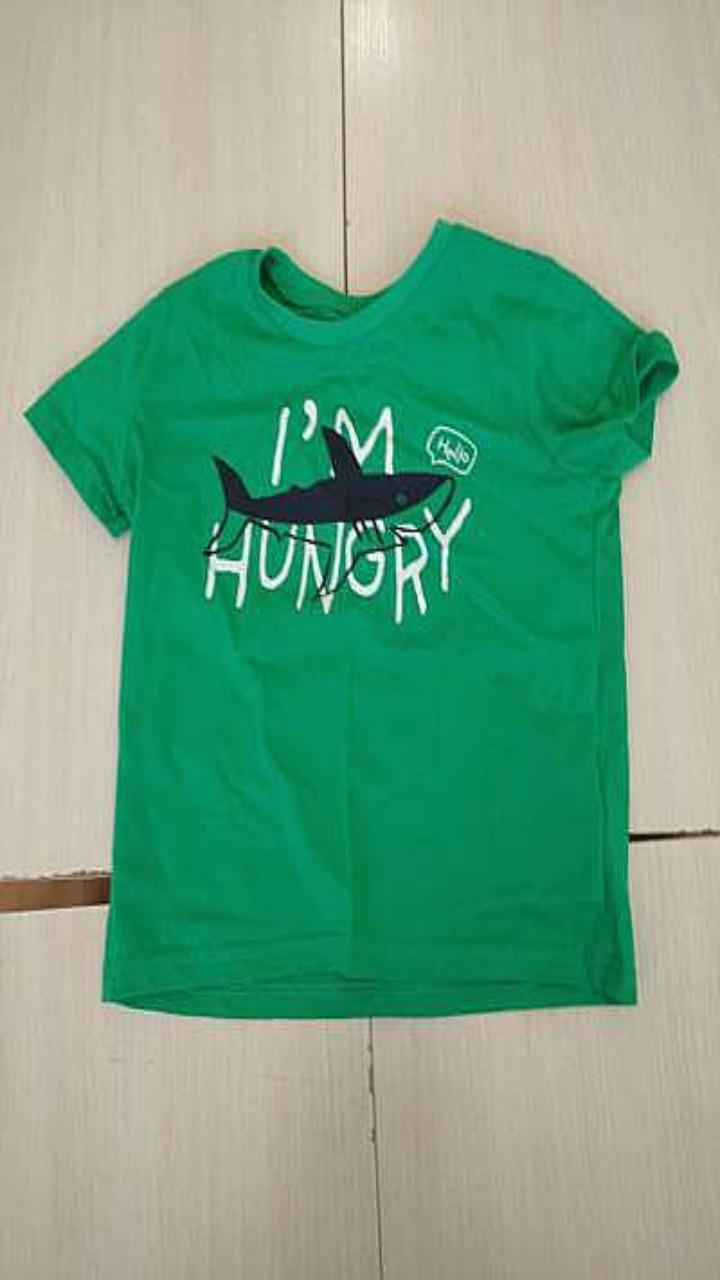T-Shirt: (24, 218, 677, 1017)
